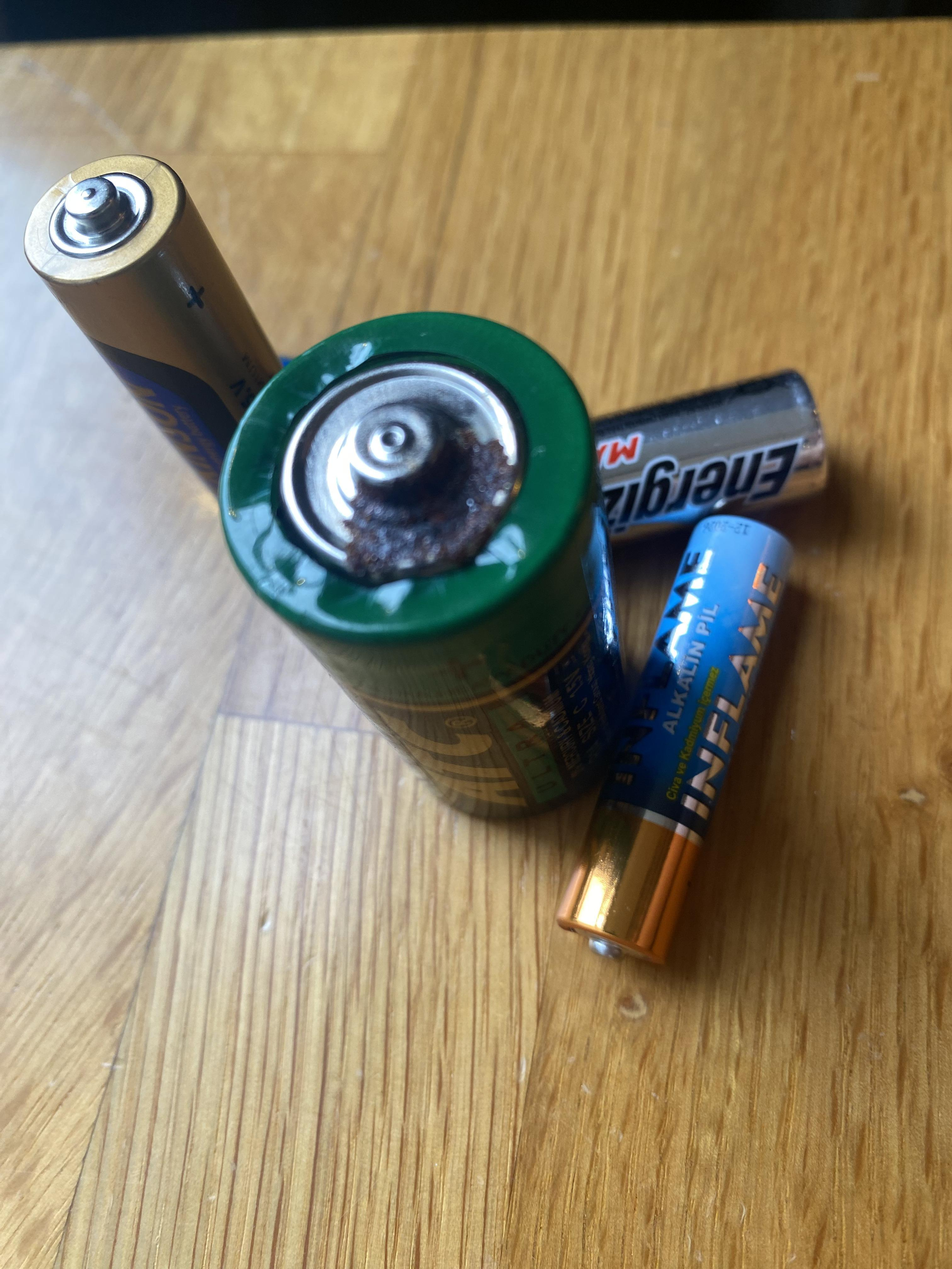AA: (550, 510, 804, 972)
